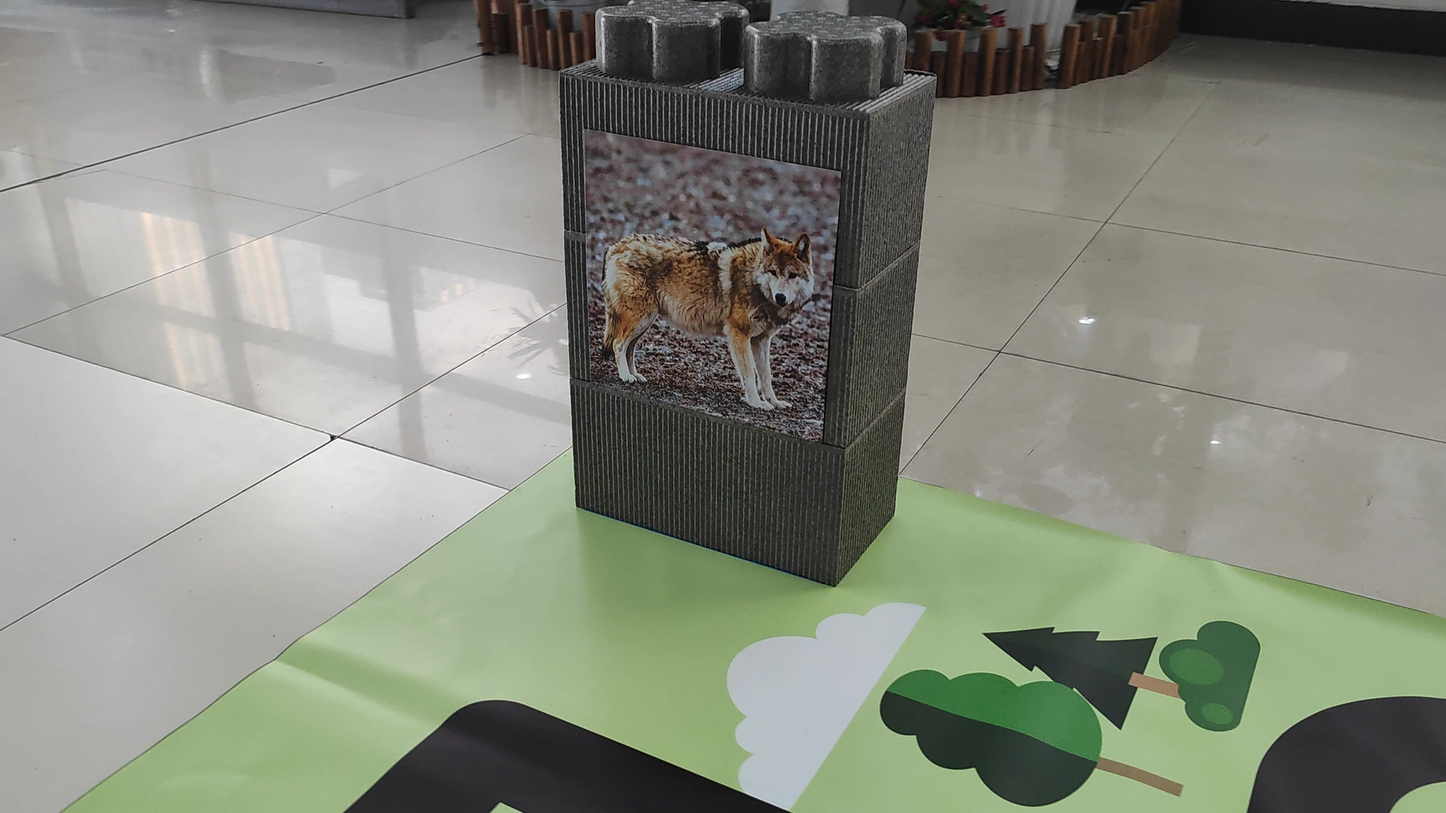wolf: (596, 206, 833, 423)
